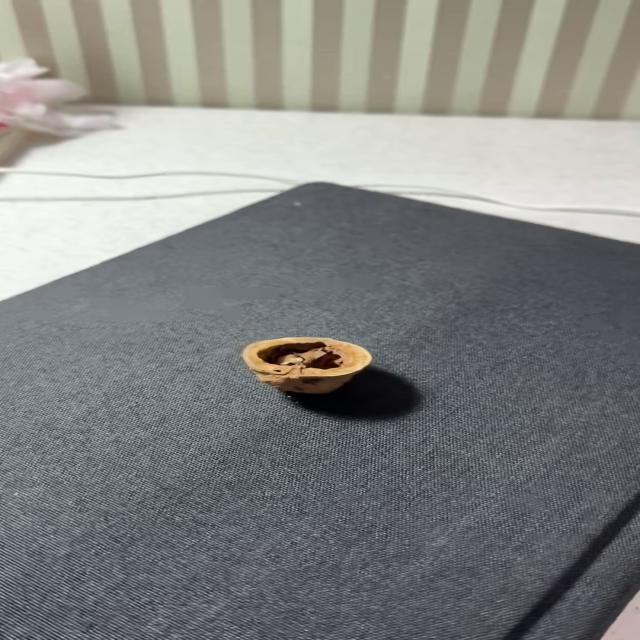nuts-bad0.5: (242, 338, 372, 394)
